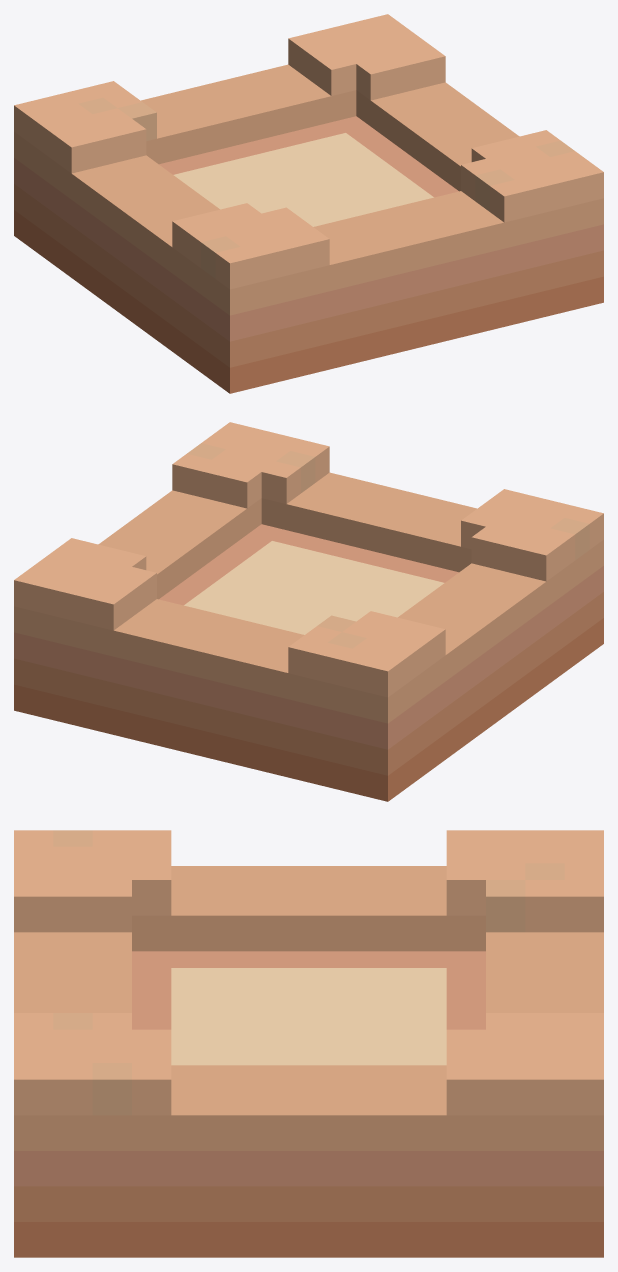
Rendered from tower-square-top.glb.
The picture shows the model from 3 angles, top to bottom: view 1: azimuth 30°, elevation 25°; view 2: azimuth 150°, elevation 25°; view 3: azimuth 270°, elevation 25°; orthographic projection. The views are drawn at different scales.
Visible parts, largest first — view 1: tower-square-top; view 2: tower-square-top; view 3: tower-square-top.
Boxes of the visible parts, x1,y1,x2,y2 form: tower-square-top: [14, 14, 603, 393]; tower-square-top: [14, 422, 603, 801]; tower-square-top: [14, 830, 603, 1257].
Bounding box in the file's own units: 1.07 × 0.357 × 1.07.
1 material, 1 textured.
